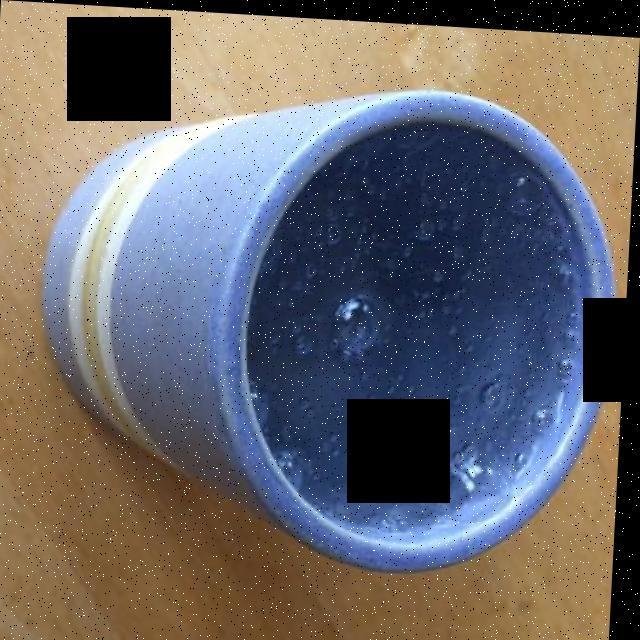water: (252, 119, 585, 529)
